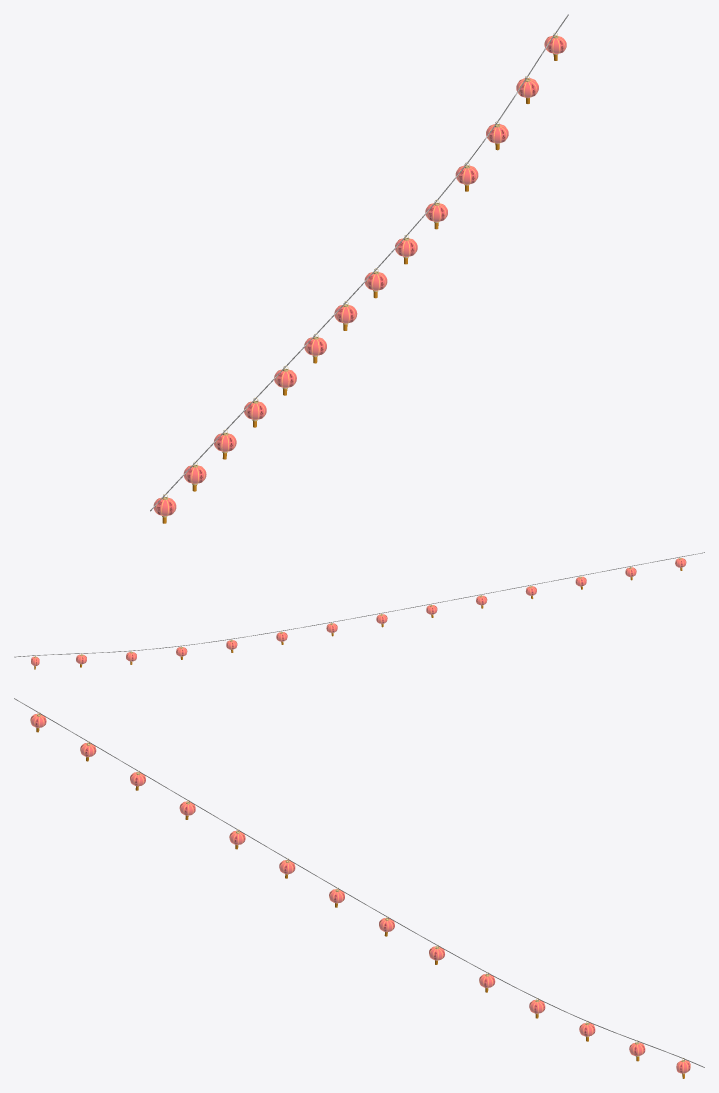
The model's file is SM_lamp_spline_Splines_35.fbx.
3 renders of one model, top to bottom at view 1: azimuth 30°, elevation 25°; view 2: azimuth 150°, elevation 25°; view 3: azimuth 270°, elevation 25°, orthographic. The views are drawn at different scales.
Parts seen in each view (by area): view 1: SM_lamp_spline_Splines_35; view 2: SM_lamp_spline_Splines_35; view 3: SM_lamp_spline_Splines_35.
Boxes of the visible parts, box(x1,y1,x2,y2) form: SM_lamp_spline_Splines_35: box(150, 14, 568, 523); SM_lamp_spline_Splines_35: box(14, 552, 704, 669); SM_lamp_spline_Splines_35: box(14, 698, 704, 1078).
Bounding box in the file's own units: 2534 × 2349 × 307.
